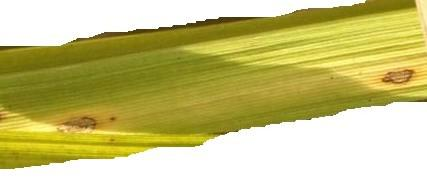0 BrownSpot: (47, 104, 131, 149), (369, 64, 424, 94)
